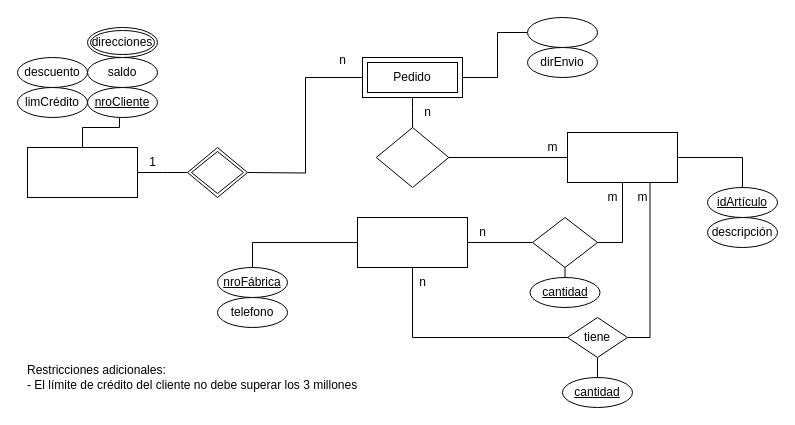
Image size: 795x425. Some labels were removed from this diagram. The shapes that lost their labels are listed below. From the top down, each one's centre as x and y in pixels, then its label:
the point at 562,32: fechaPedido
the point at 82,172: Cliente
the point at 217,172: hace
the point at 412,157: contiene
the point at 622,157: Artículo
the point at 412,242: Fábrica
the point at 565,242: distribuye
